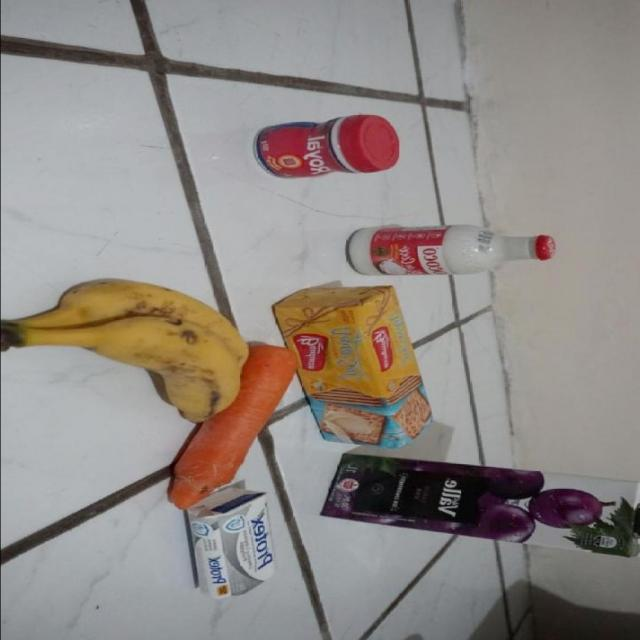Banana: (0, 279, 248, 426)
Carrot: (158, 344, 300, 509)
CoconutMilk: (341, 226, 561, 276)
Cracker: (270, 285, 436, 451)
Soap: (180, 485, 278, 598)
Yeast: (251, 114, 401, 179)
